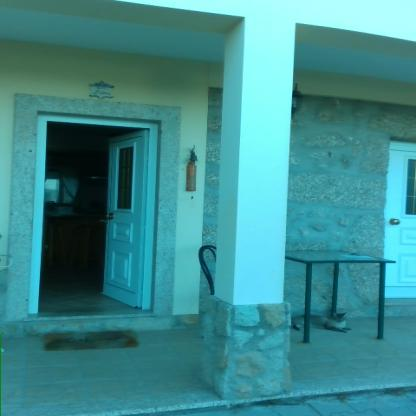open: (25, 102, 167, 330)
